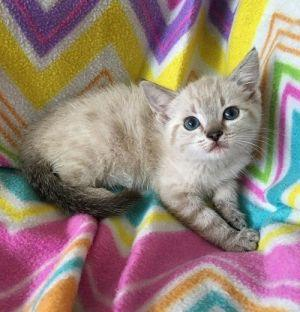siamese: (139, 43, 273, 173)
